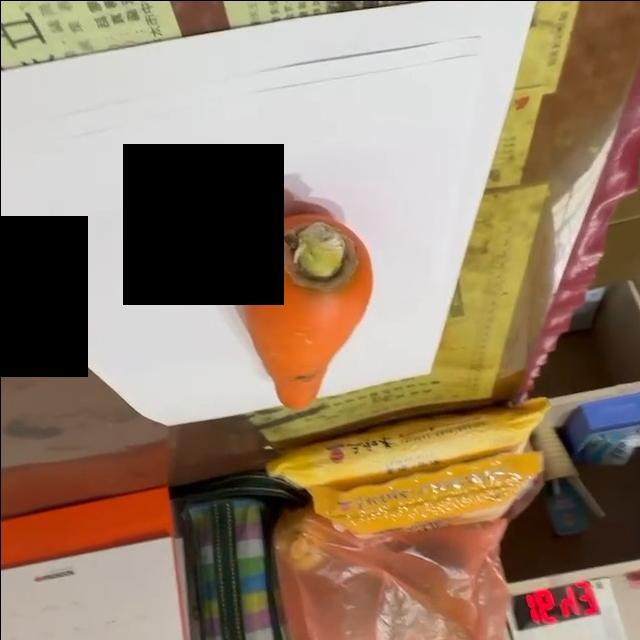carrot: (237, 211, 376, 413)
